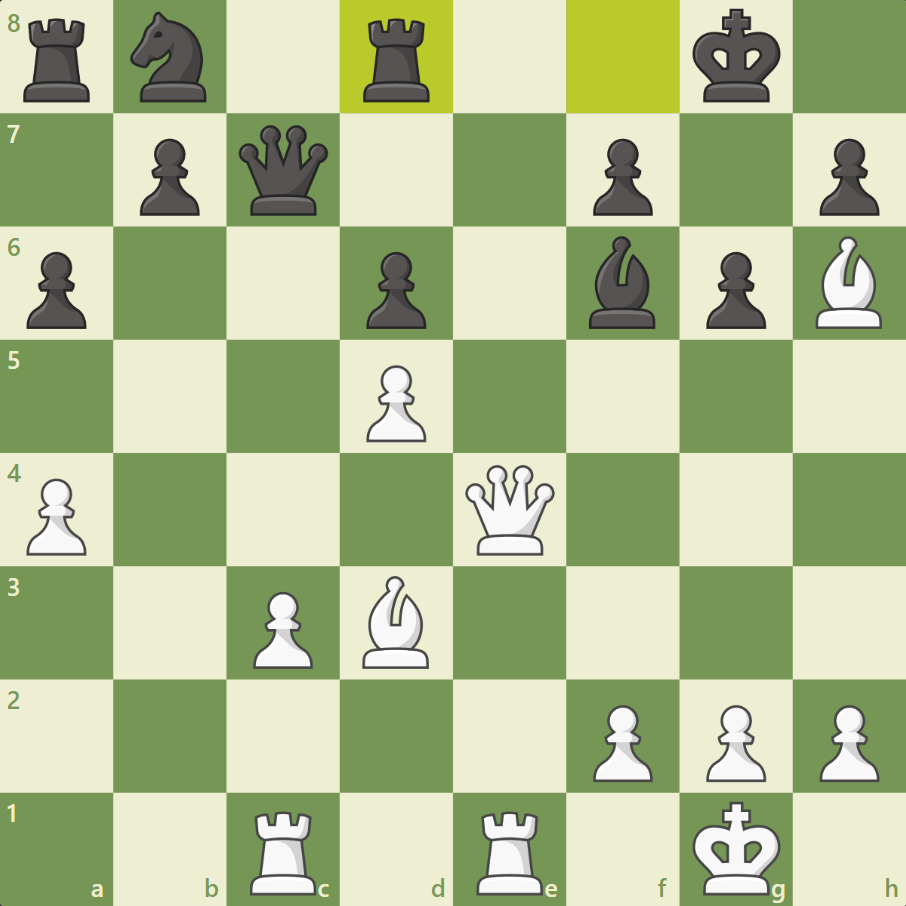B: (358, 572, 432, 672), (813, 233, 886, 334)
K: (690, 798, 780, 898)
P: (24, 478, 87, 561), (365, 362, 427, 446), (820, 701, 882, 784), (705, 703, 767, 786), (594, 704, 656, 787), (251, 591, 313, 674)
Q: (461, 461, 557, 560)
R: (240, 807, 323, 902), (474, 806, 547, 899)
b: (582, 234, 661, 333)
k: (691, 5, 783, 107)
n: (127, 10, 210, 106)
p: (22, 250, 91, 334), (364, 249, 429, 335), (704, 248, 768, 335), (818, 135, 884, 219), (592, 134, 655, 221), (137, 134, 201, 219)
q: (237, 121, 329, 219)
r: (18, 15, 94, 106), (363, 15, 437, 105)
